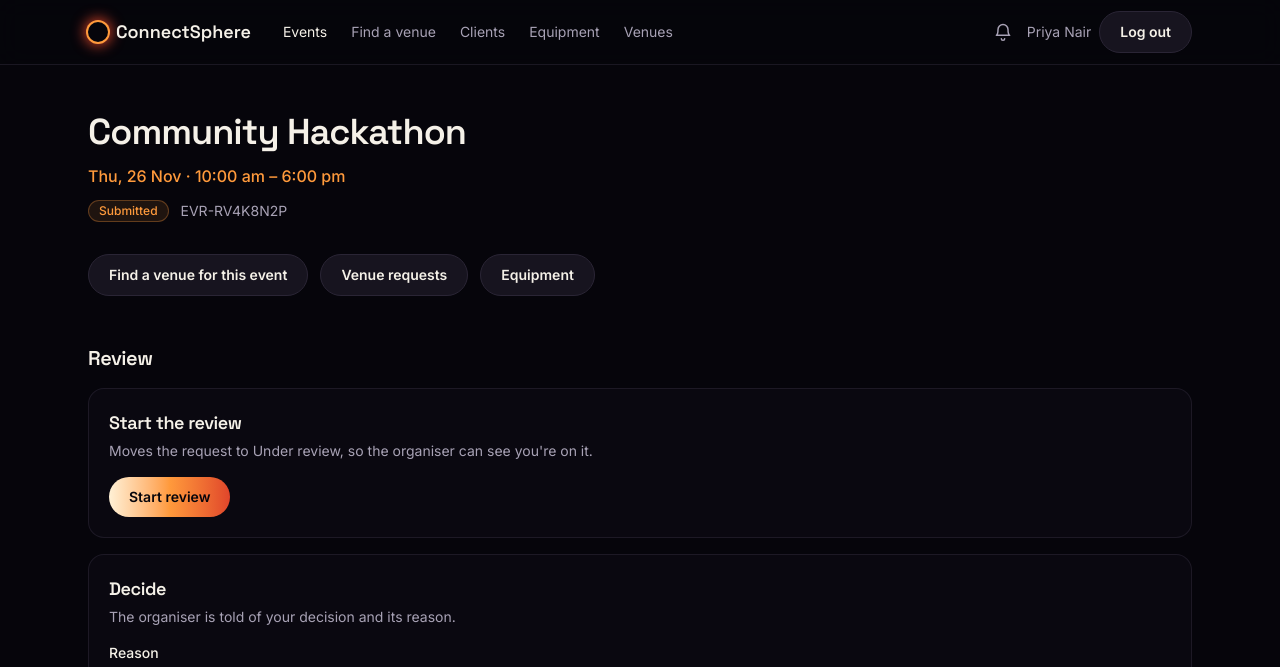
SCRUM-31 AC3 starting a review › shows the backend's refusal
This screenshot has width=1280, height=667.
What coordinates should you click on to do the following:
click the button "Start review"
I would click on:
 (170, 497)
Its box is 109,477 -> 230,517.
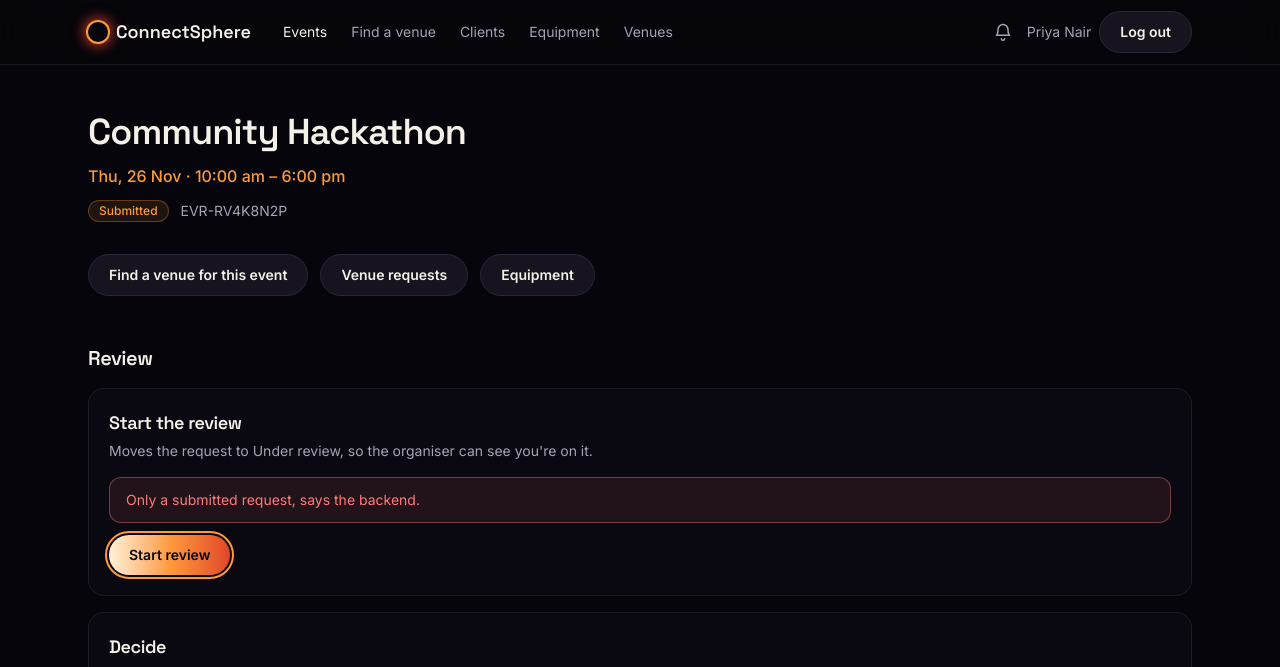
Expected: the message reads "Only a submitted request, says the backend.", 126,491 -> 420,508
